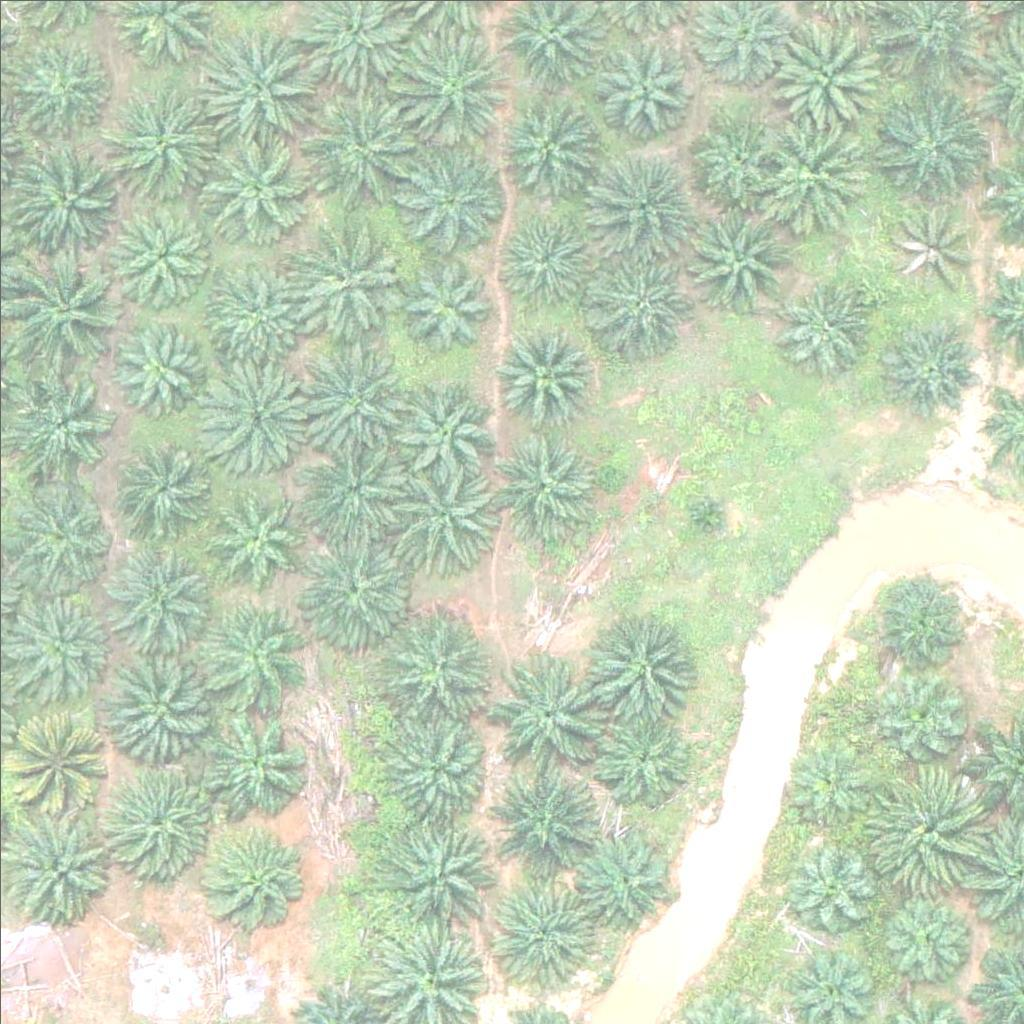Kelapa_Sawit: (8, 143, 121, 257), (201, 359, 314, 473), (292, 343, 405, 457), (401, 26, 514, 140), (375, 716, 488, 830), (384, 811, 497, 925), (486, 875, 599, 989), (9, 250, 122, 363), (100, 644, 213, 757), (106, 86, 219, 199), (198, 702, 311, 815), (196, 125, 309, 238), (287, 226, 400, 339), (587, 605, 700, 718), (586, 147, 699, 260), (870, 775, 983, 888), (196, 596, 308, 710), (395, 142, 507, 256), (198, 824, 310, 938), (488, 767, 600, 881), (4, 371, 116, 484), (195, 28, 307, 141), (295, 522, 407, 635), (306, 93, 418, 206), (384, 614, 496, 727), (384, 466, 496, 579), (496, 657, 608, 770), (682, 203, 794, 316), (759, 120, 871, 233), (772, 22, 884, 135), (874, 88, 986, 201), (2, 806, 114, 919), (112, 762, 224, 875), (15, 597, 115, 698), (13, 485, 113, 586), (9, 32, 109, 133), (107, 540, 207, 641), (112, 200, 212, 301), (206, 485, 306, 586), (395, 250, 495, 351), (394, 380, 494, 481), (593, 707, 693, 808), (593, 29, 693, 130), (778, 274, 878, 375), (574, 827, 674, 928), (9, 704, 109, 804), (115, 427, 215, 527), (204, 254, 304, 354), (304, 438, 404, 538), (493, 430, 593, 530), (492, 321, 592, 421), (492, 205, 592, 305), (496, 89, 596, 189), (590, 245, 690, 345), (872, 573, 972, 673), (881, 320, 981, 420), (872, 889, 972, 989), (114, 318, 202, 407), (694, 114, 782, 202), (880, 678, 968, 766), (783, 743, 871, 831), (885, 201, 972, 289), (786, 835, 873, 923), (685, 492, 735, 543)
